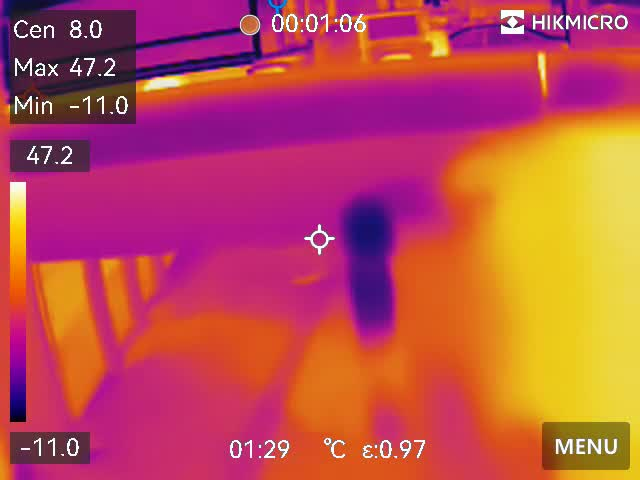largeCar: (230, 11, 462, 83)
smallCar: (450, 25, 576, 60)
